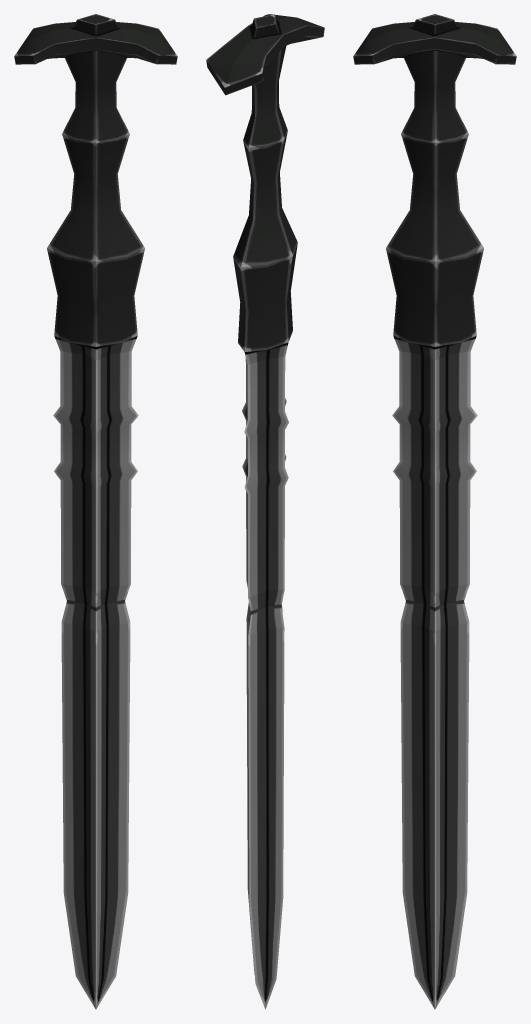
Rendered from Boss_100_DivineSword.fbx.
The picture shows the model from 3 angles, left to right: view 1: azimuth 90°, elevation 25°; view 2: azimuth 150°, elevation 25°; view 3: azimuth 270°, elevation 25°; orthographic projection.
Parts seen in each view (by area): view 1: Model; view 2: Model; view 3: Model.
Boxes of the visible parts, <box> form: Model: <box>14,14,177,1009</box>; Model: <box>206,14,324,1009</box>; Model: <box>353,14,516,1009</box>.
Bounding box in the file's own units: 0.0887 × 1.5 × 0.2241.
1 material, 1 textured.
